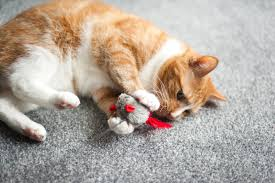cat: (150, 47, 230, 128)
